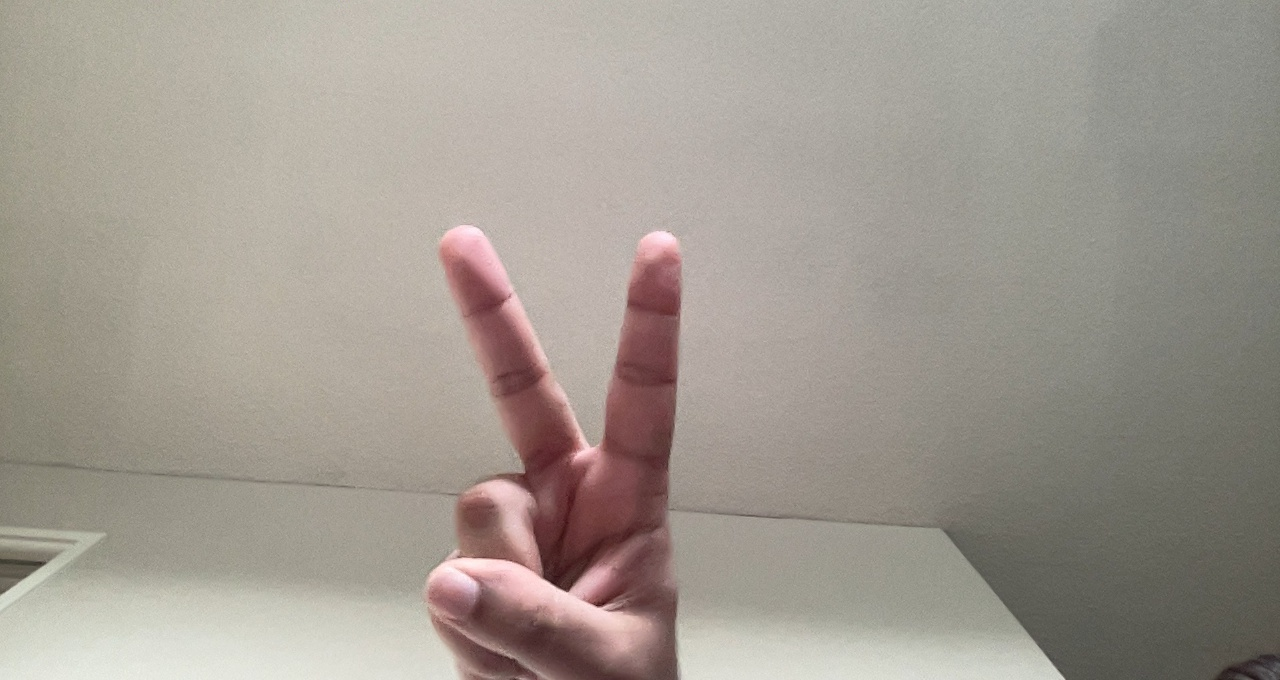peace sign: (401, 213, 703, 669)
